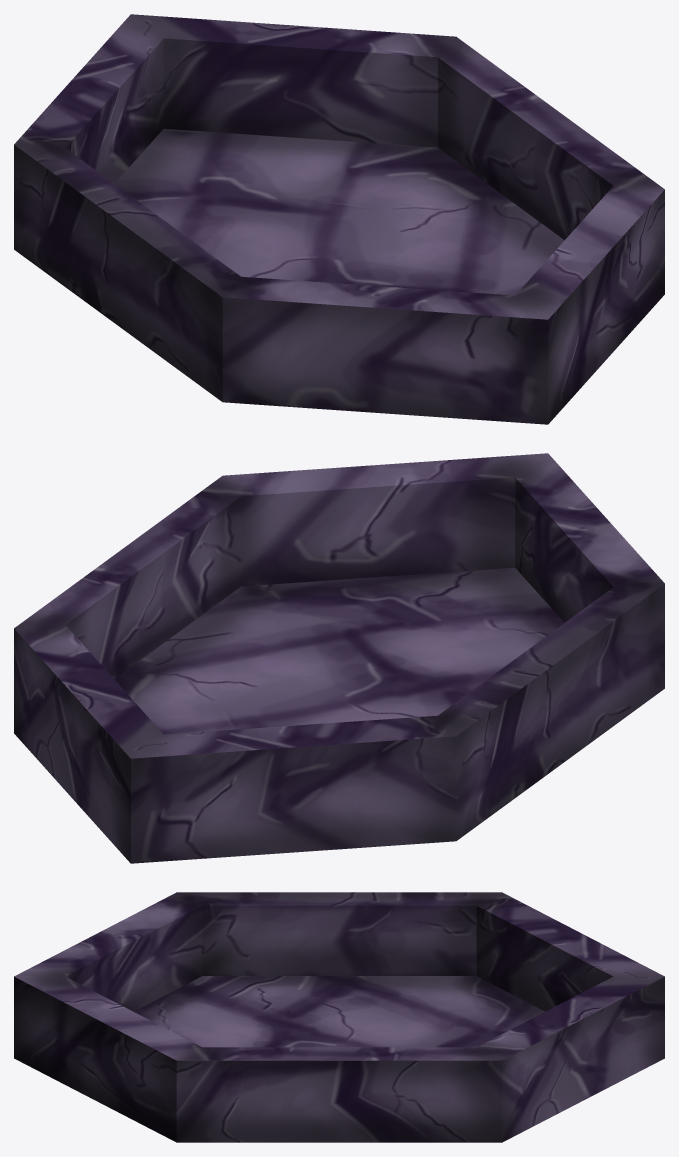
Rendered from death_fountain.obj.
3 views of the same model, one above another, from view 1: azimuth 30°, elevation 25°; view 2: azimuth 150°, elevation 25°; view 3: azimuth 270°, elevation 25° (orthographic). The views are drawn at different scales.
Parts seen in each view (by area): view 1: Circle.004_Circle.040; view 2: Circle.004_Circle.040; view 3: Circle.004_Circle.040.
Boxes of the visible parts, bbox=[...] form: Circle.004_Circle.040: bbox=[14, 14, 664, 424]; Circle.004_Circle.040: bbox=[14, 453, 664, 863]; Circle.004_Circle.040: bbox=[14, 892, 664, 1142].
Size of the model in its own units: 7.69 by 1.74 by 12.56.
